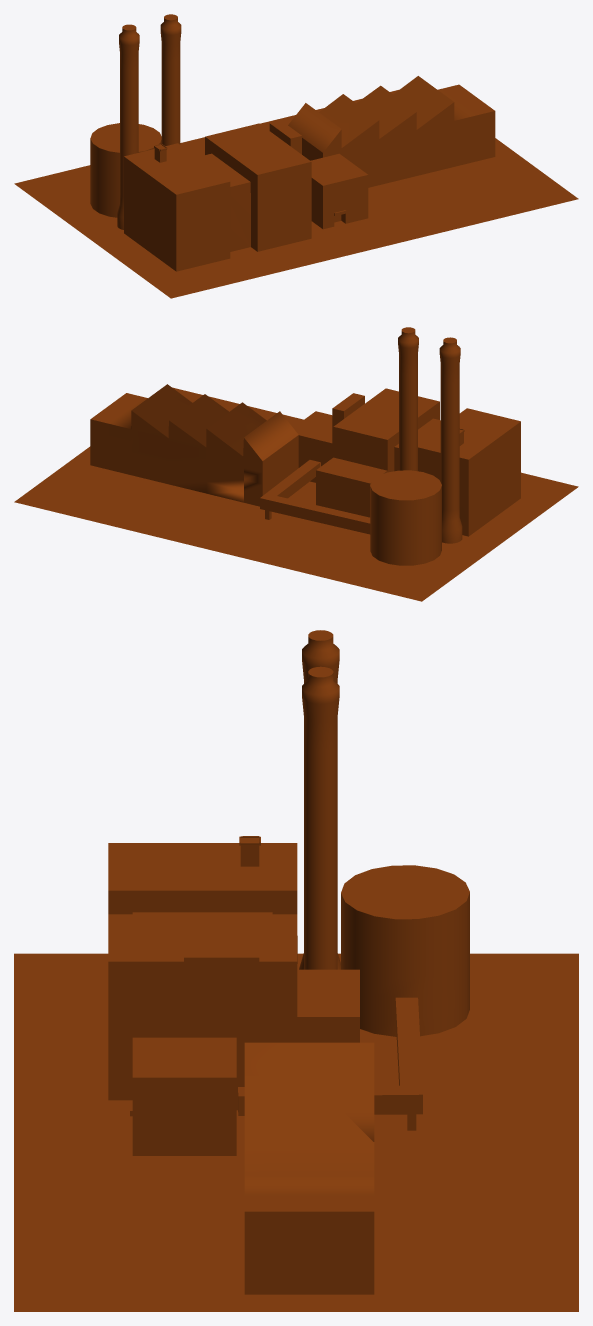
File: factory.obj
The picture shows the model from 3 angles, top to bottom: view 1: azimuth 30°, elevation 25°; view 2: azimuth 150°, elevation 25°; view 3: azimuth 270°, elevation 25°; orthographic projection. The views are drawn at different scales.
Parts seen in each view (by area): view 1: Box003; view 2: Box003; view 3: Box003.
Boxes of the visible parts, x1=… form: Box003: x1=14, y1=14, x2=578, y2=298; Box003: x1=14, y1=327, x2=578, y2=601; Box003: x1=14, y1=630, x2=578, y2=1311.
Bounding box in the file's own units: 178 × 83.01 × 118.
